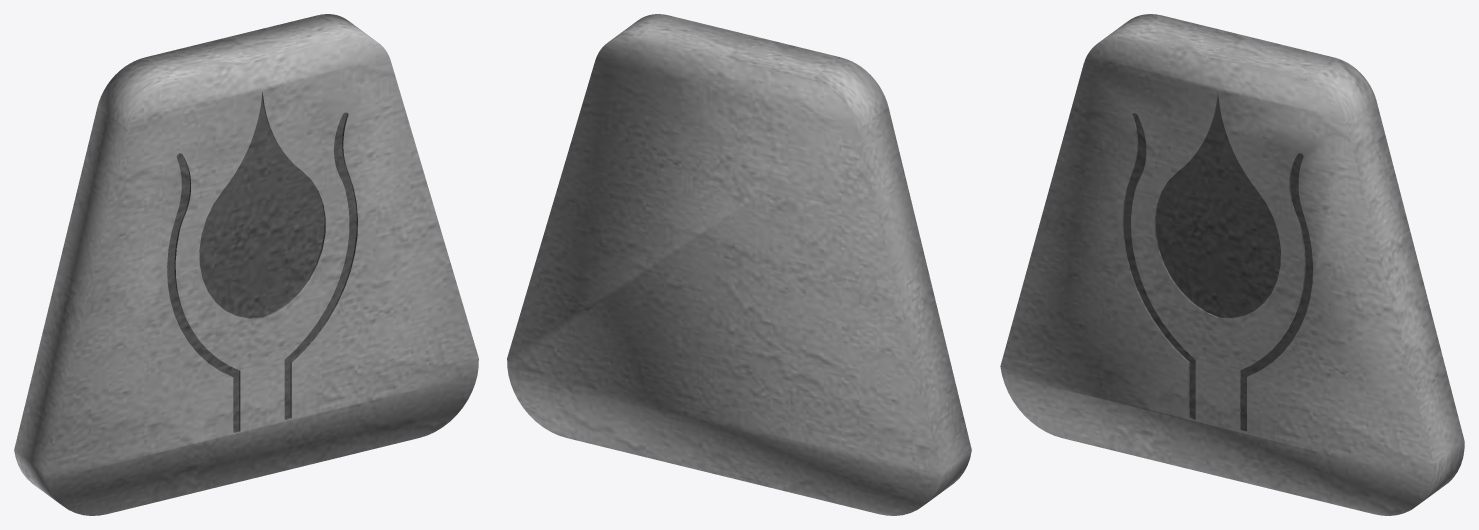
3 renders of one model, left to right at view 1: azimuth 30°, elevation 25°; view 2: azimuth 150°, elevation 25°; view 3: azimuth 330°, elevation 25°, orthographic.
Visible parts, largest first — view 1: SketchUp (×4); view 2: SketchUp; view 3: SketchUp (×4).
Part boxes in pixels (x1,y1,x2,y2): SketchUp (×4): (14,14,478,515); SketchUp: (507,14,971,515); SketchUp (×4): (1000,14,1464,515).
Bounding box in the file's own units: 13.73 × 1.69 × 12.62.
Materials: 2 (2 with a texture image).
